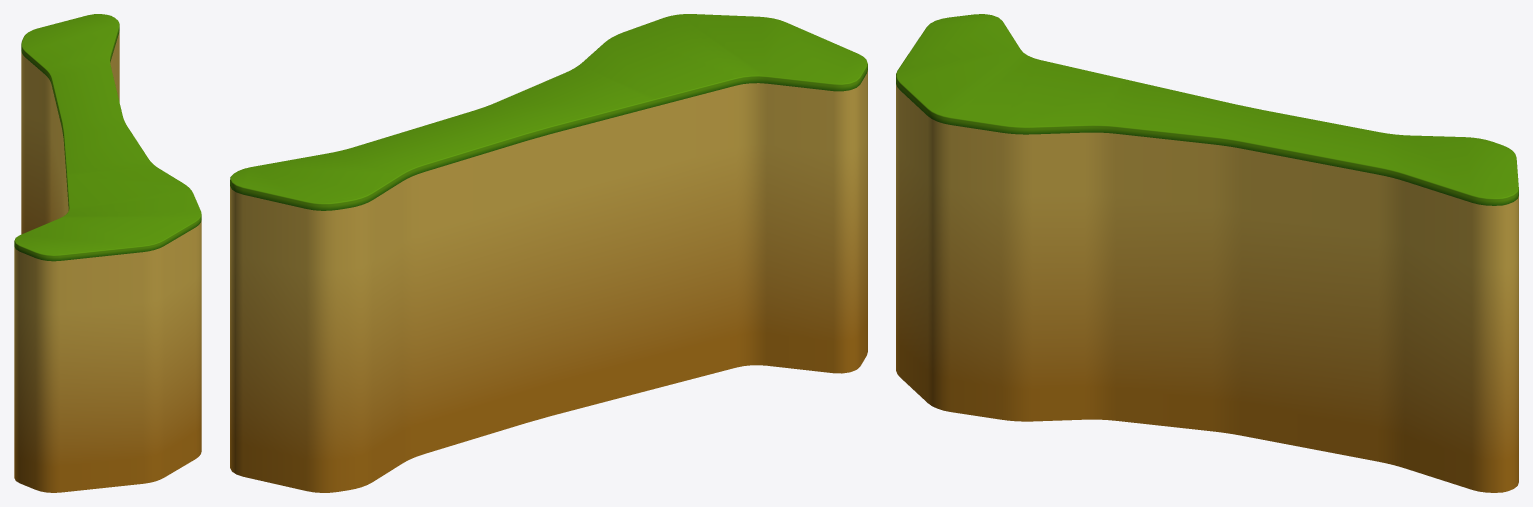
Rendered from LM100NAT09.fbx.
The picture shows the model from 3 angles, left to right: view 1: azimuth 30°, elevation 25°; view 2: azimuth 150°, elevation 25°; view 3: azimuth 270°, elevation 25°; orthographic projection. The views are drawn at different scales.
Parts seen in each view (by area): view 1: LOD0; view 2: LOD0; view 3: LOD0.
Boxes of the visible parts, x1,y1,x2,y2 form: LOD0: (14, 14, 201, 492); LOD0: (230, 14, 867, 492); LOD0: (896, 14, 1518, 492).
Size of what is drawn, in the model's own units: 6733 by 9587 by 5000.
